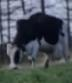cow: (6, 13, 72, 71)
